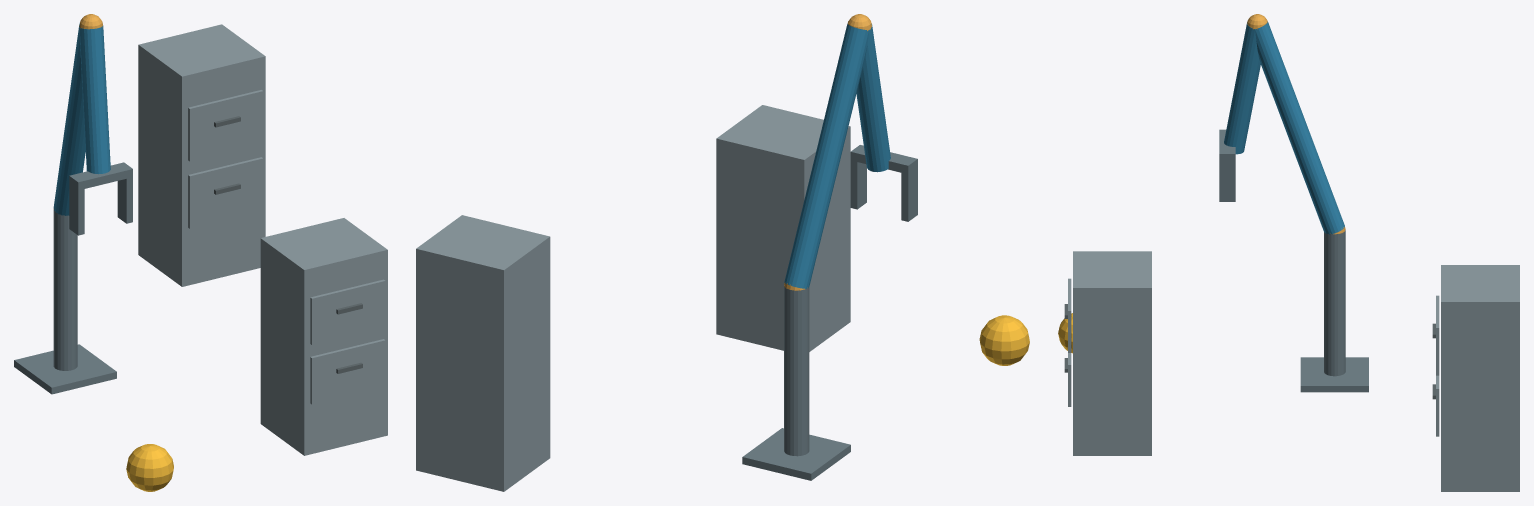
The picture shows the model from 3 angles, left to right: view 1: azimuth 30°, elevation 25°; view 2: azimuth 150°, elevation 25°; view 3: azimuth 270°, elevation 25°; orthographic projection. The views are drawn at different scales.
Visible parts, largest first — view 1: cabinet_2 body, cabinet_1 body, cabinet_2 drawer front, cabinet_2 drawer front.001, fixed post, moving link 2, cabinet_1 drawer front, cabinet_1 drawer front.001, moving link 1, pedestal, ball ball_1, gripper bridge (+2 smaller); view 2: cabinet_2 body, cabinet_1 body, moving link 1, fixed post, pedestal, moving link 2, ball ball_1, gripper finger -1, gripper finger 1, gripper bridge; view 3: cabinet_2 body, cabinet_1 body, moving link 1, fixed post, moving link 2, pedestal, gripper finger 1.
Part boxes in pixels (x1,y1,x2,y2): cabinet_2 body: (138,24,265,286); cabinet_1 body: (260,218,387,455); cabinet_2 drawer front: (188,157,263,228); cabinet_2 drawer front.001: (188,90,263,161); fixed post: (53,210,77,370); moving link 2: (79,25,110,174); cabinet_1 drawer front: (310,339,385,404); cabinet_1 drawer front.001: (310,279,385,344); moving link 1: (53,23,85,215); pedestal: (14,344,116,394); ball ball_1: (126,444,173,491); gripper bridge: (69,162,132,190); cabinet_2 body: (416,215,550,491); cabinet_1 body: (716,105,850,351); moving link 1: (784,24,868,288); fixed post: (784,285,809,456); pedestal: (742,428,850,480); moving link 2: (856,24,890,172); ball ball_1: (979,315,1029,365); gripper finger -1: (901,167,917,221); gripper finger 1: (850,160,866,209); gripper bridge: (850,145,917,174); cabinet_2 body: (1441,265,1519,491); cabinet_1 body: (1073,251,1151,455); moving link 1: (1255,21,1344,234); fixed post: (1324,230,1345,376); moving link 2: (1224,22,1260,154); pedestal: (1300,357,1368,392); gripper finger 1: (1219,161,1235,201).
Bounding box in the file's own units: 1.29 × 1.44 × 1.69.
